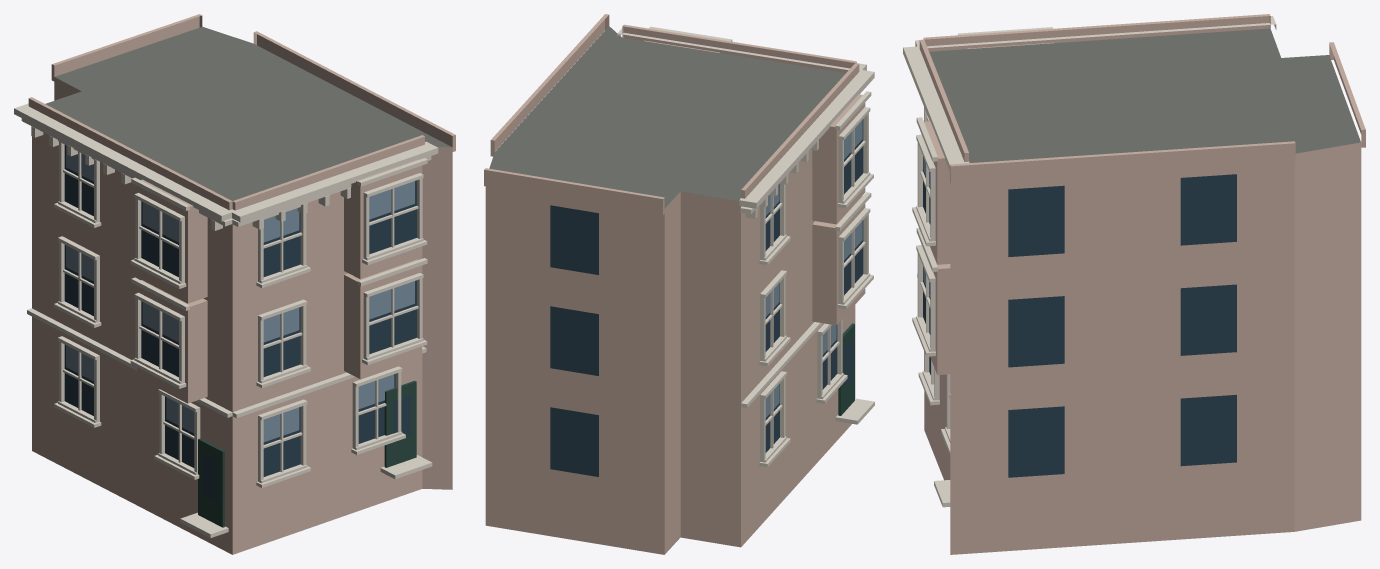
3 views of the same model, side by side, from view 1: azimuth 30°, elevation 25°; view 2: azimuth 150°, elevation 25°; view 3: azimuth 270°, elevation 25° (orthographic). The views are drawn at different scales.
Parts seen in each view (by area): view 1: Footprint 0 / surface 2, Cornices and window frames, Footprint 0 / surface 1, Facade bay volumes, Inset glazing, Sky reflection panels, Storefronts and doors; view 2: Footprint 0 / surface 2, Footprint 0 / surface 1, Cornices and window frames, Facade bay volumes, Inset glazing, Sky reflection panels, Storefronts and doors; view 3: Footprint 0 / surface 2, Footprint 0 / surface 1, Inset glazing, Facade bay volumes, Cornices and window frames.
Boxes of the visible parts, x1,y1,x2,y2 form: Footprint 0 / surface 2: (32,77,452,554); Cornices and window frames: (14,103,438,537); Footprint 0 / surface 1: (45,26,451,200); Facade bay volumes: (28,14,455,403); Inset glazing: (64,145,416,500); Sky reflection panels: (66,145,414,442); Storefronts and doors: (198,380,416,527); Footprint 0 / surface 2: (485,149,855,554); Footprint 0 / surface 1: (489,26,845,208); Cornices and window frames: (617,26,874,467); Facade bay volumes: (484,14,865,325); Inset glazing: (550,119,863,476); Sky reflection panels: (765,120,862,417); Storefronts and doors: (838,323,854,415); Footprint 0 / surface 2: (924,142,1361,554); Footprint 0 / surface 1: (929,28,1360,162); Inset glazing: (923,156,1236,477); Facade bay volumes: (919,14,1365,374); Cornices and window frames: (903,16,1276,507).
Size of the model in its own units: 9.59 by 10.96 by 11.77.
